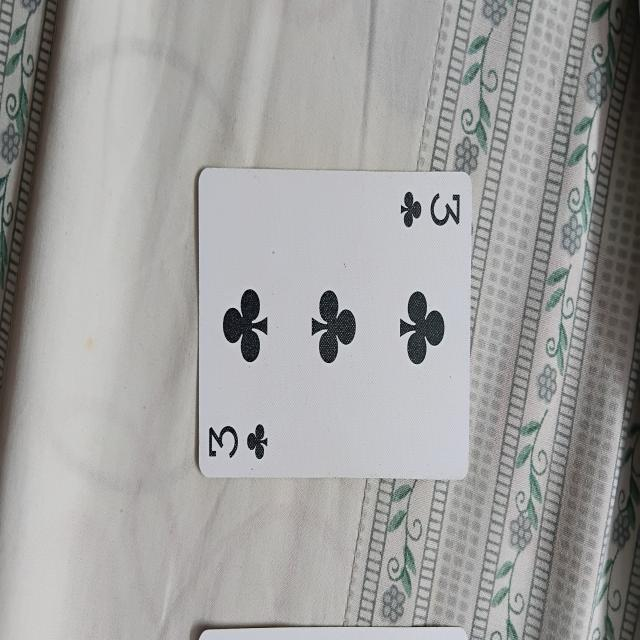3C: (198, 167, 472, 481)
